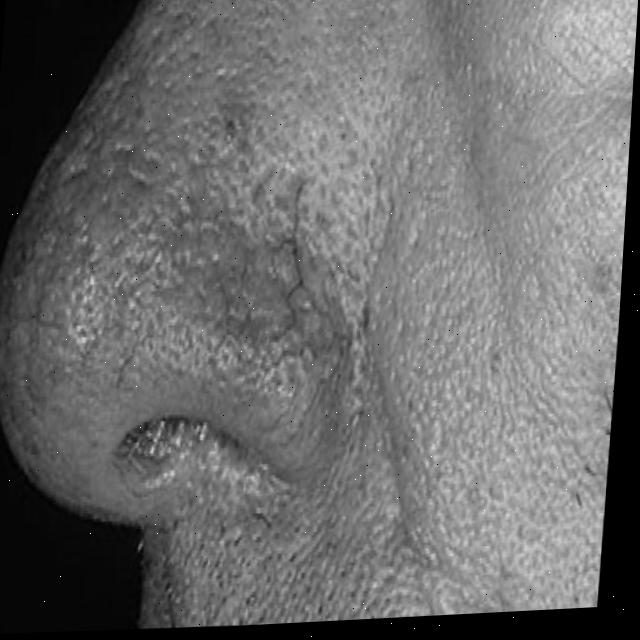Rosacea: (94, 42, 306, 347)
